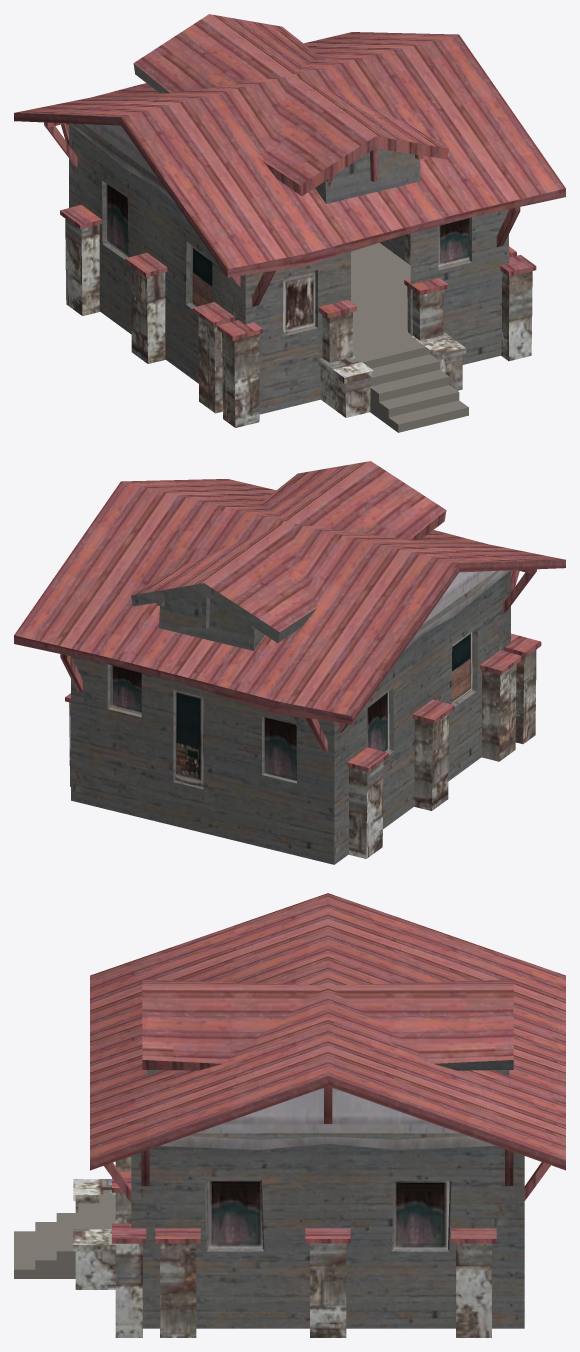
Rendered from rural-house.walls-v1.lod0.glb.
The picture shows the model from 3 angles, top to bottom: view 1: azimuth 30°, elevation 25°; view 2: azimuth 150°, elevation 25°; view 3: azimuth 270°, elevation 25°; orthographic projection. The views are drawn at different scales.
Parts seen in each view (by area): view 1: Rural_HouseOld_1_Material #39_0, Walkable floors and stairs; view 2: Rural_HouseOld_1_Material #39_0; view 3: Rural_HouseOld_1_Material #39_0, Walkable floors and stairs.
Part boxes in pixels (x1,y1,x2,y2): Rural_HouseOld_1_Material #39_0: (14, 14, 565, 427); Walkable floors and stairs: (351, 242, 468, 432); Rural_HouseOld_1_Material #39_0: (14, 461, 565, 864); Rural_HouseOld_1_Material #39_0: (73, 893, 565, 1337); Walkable floors and stairs: (14, 1195, 115, 1278).
Bounding box in the file's own units: 6.9 × 4.79 × 8.76.
Materials: 2 (1 with a texture image).
